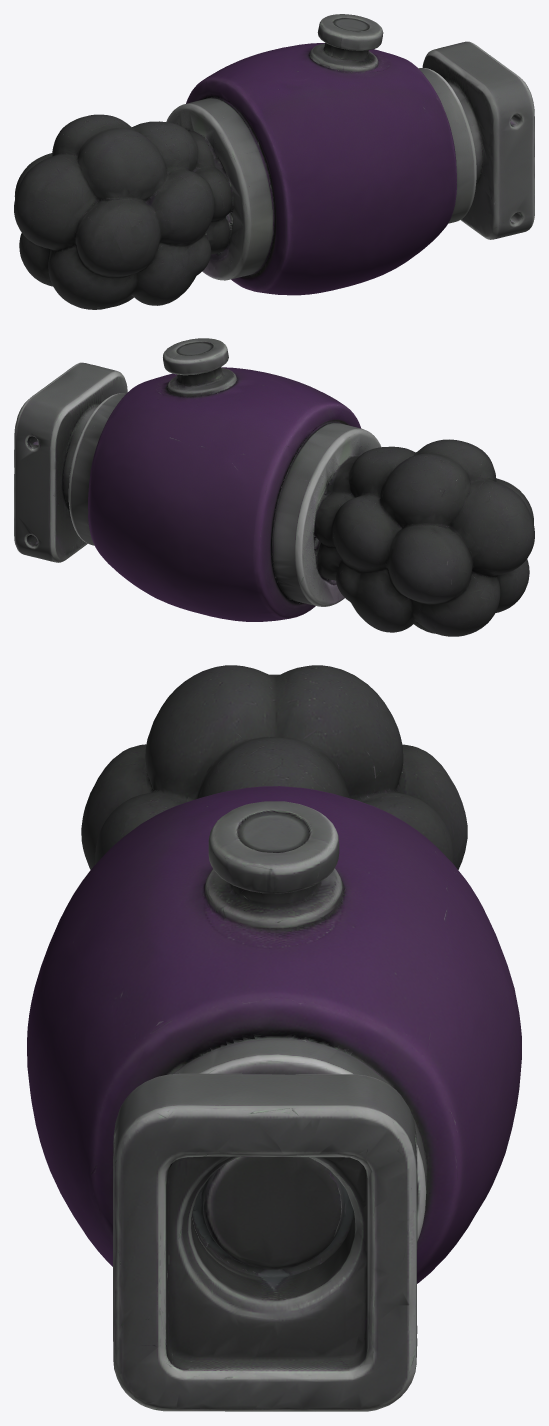
Rendered from Meshy_AI_Purple_Sphere_Cluster_0614072708_texture.fbx.
3 renders of one model, top to bottom at view 1: azimuth 30°, elevation 25°; view 2: azimuth 150°, elevation 25°; view 3: azimuth 270°, elevation 25°, orthographic. The views are drawn at different scales.
Parts seen in each view (by area): view 1: Mesh_0; view 2: Mesh_0; view 3: Mesh_0.
Part boxes in pixels (x1,y1,x2,y2): Mesh_0: [14, 14, 534, 309]; Mesh_0: [14, 338, 534, 636]; Mesh_0: [27, 665, 521, 1411].
Bounding box in the file's own units: 191 × 95.53 × 85.74.
1 material, 1 textured.
